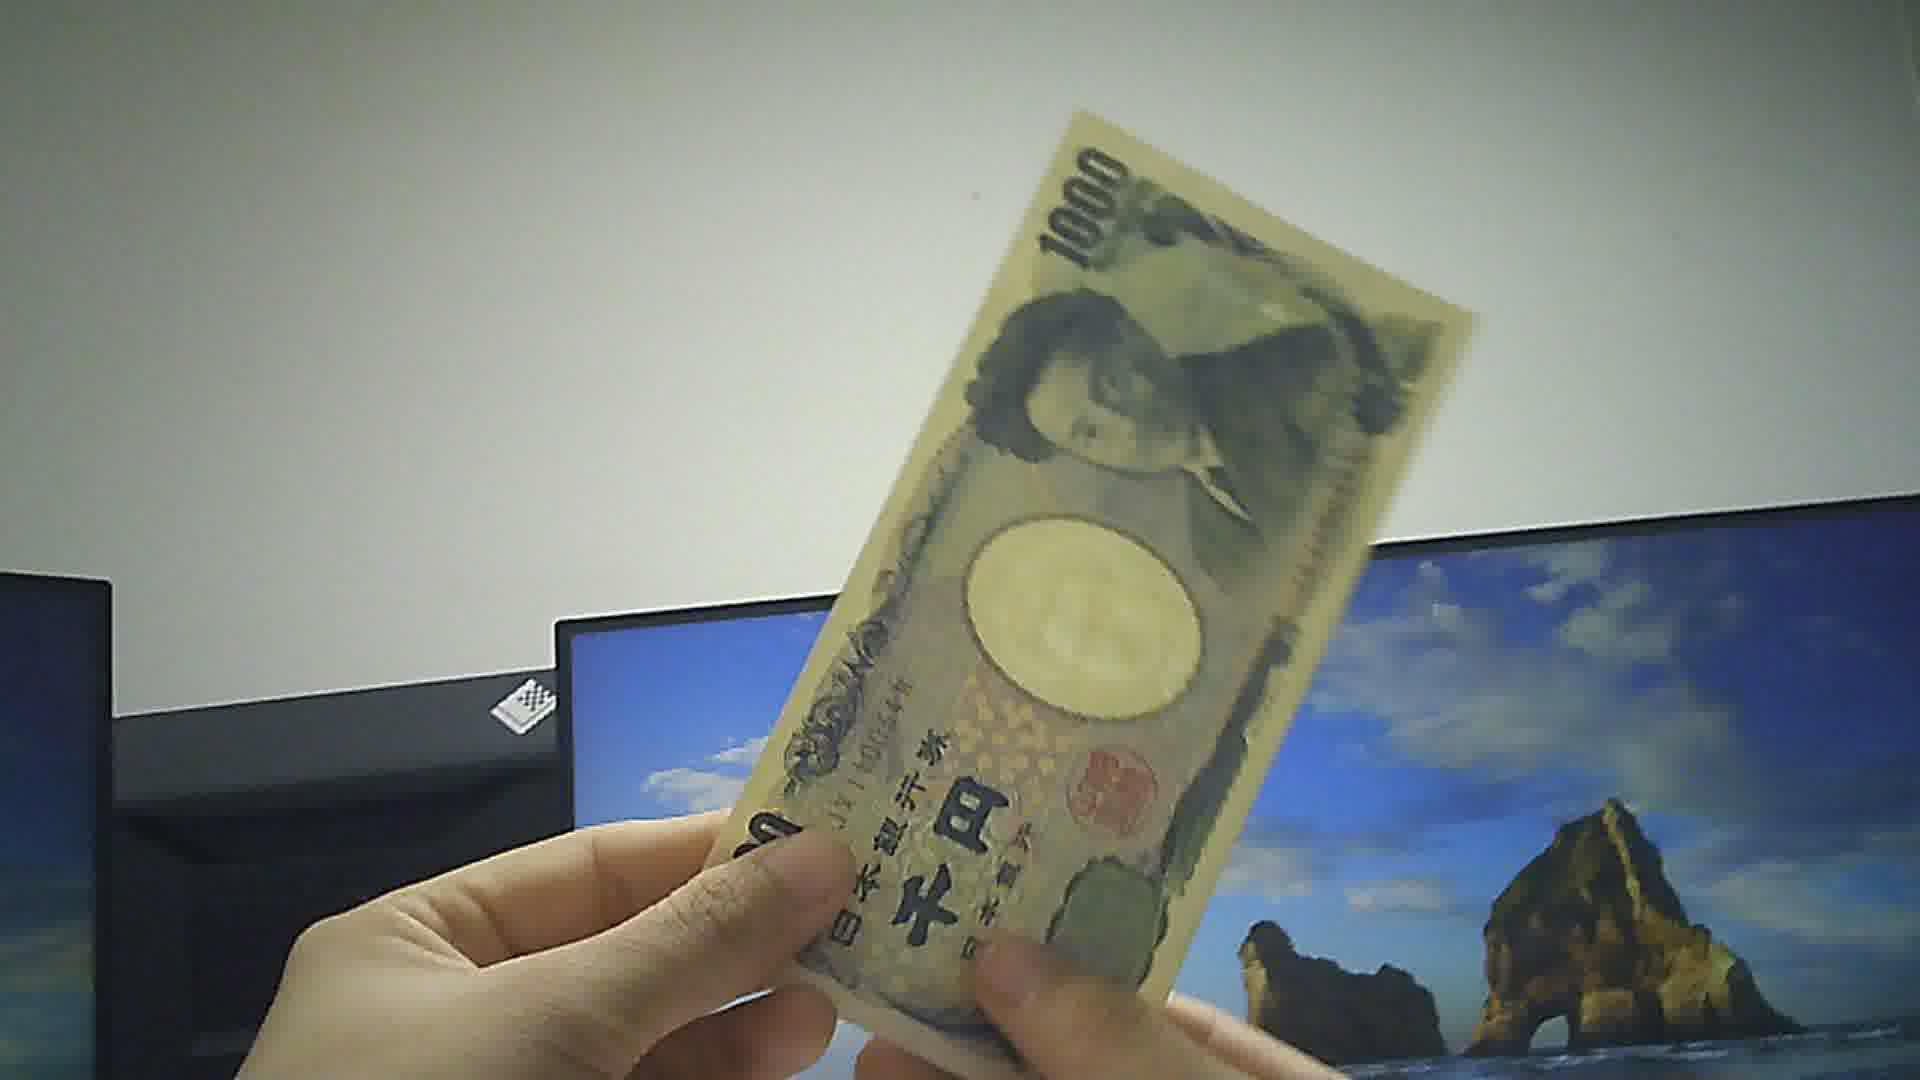1,000 Yen: (705, 102, 1453, 1079)
